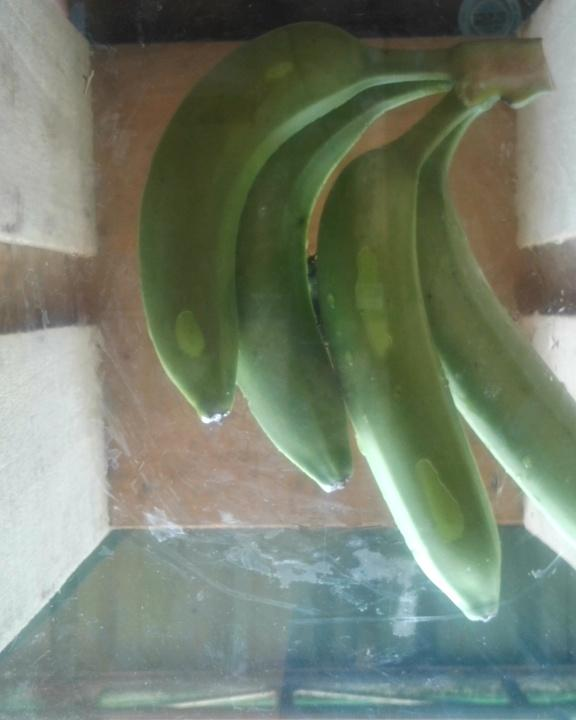SPOT: (137, 11, 576, 632)
